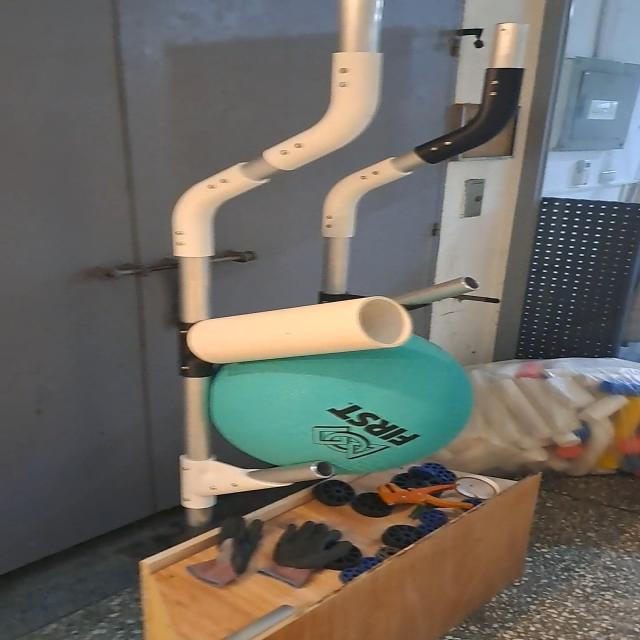ALGAE: (208, 331, 481, 476)
CORAL: (184, 294, 414, 364)
